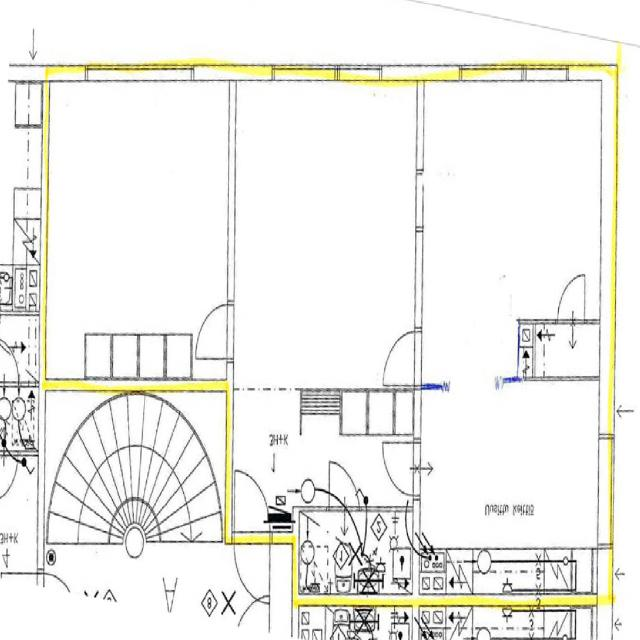door: (235, 469, 270, 543), (235, 531, 270, 605), (383, 442, 421, 496), (383, 332, 421, 384), (196, 305, 233, 358), (330, 453, 360, 511), (558, 276, 585, 327)
